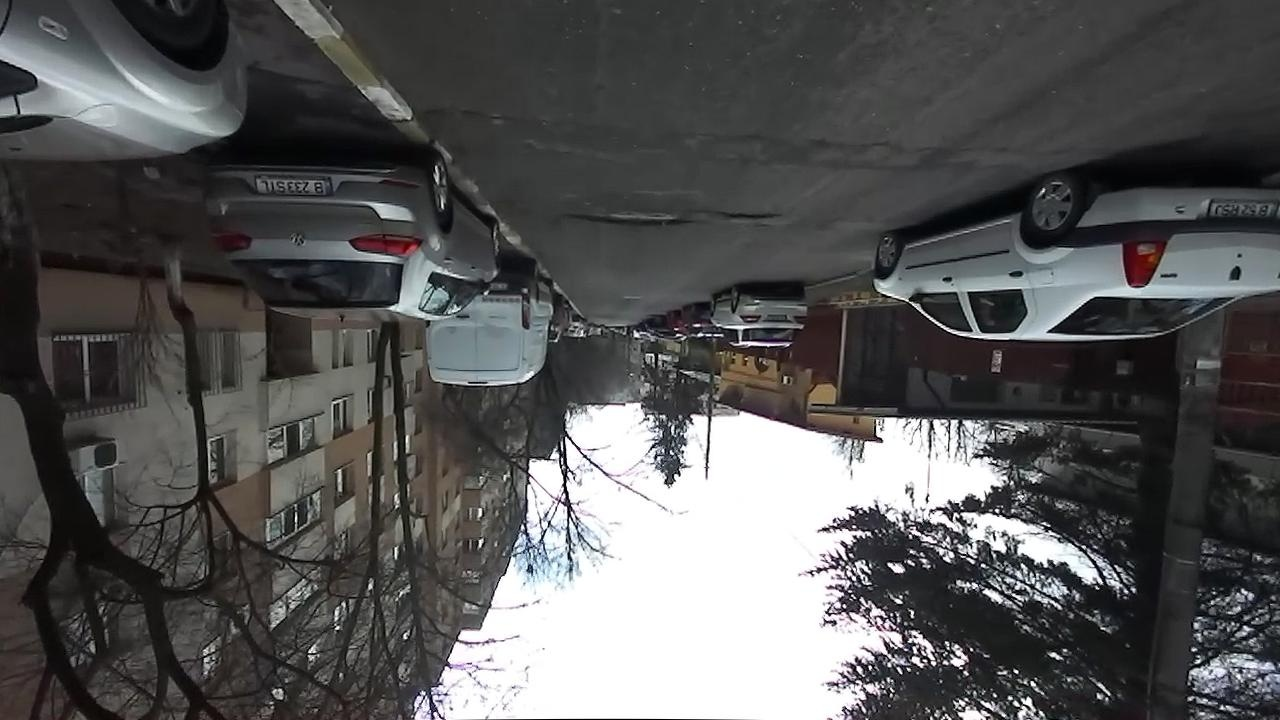pothole: (562, 206, 698, 229), (428, 104, 512, 128), (713, 209, 782, 223)
